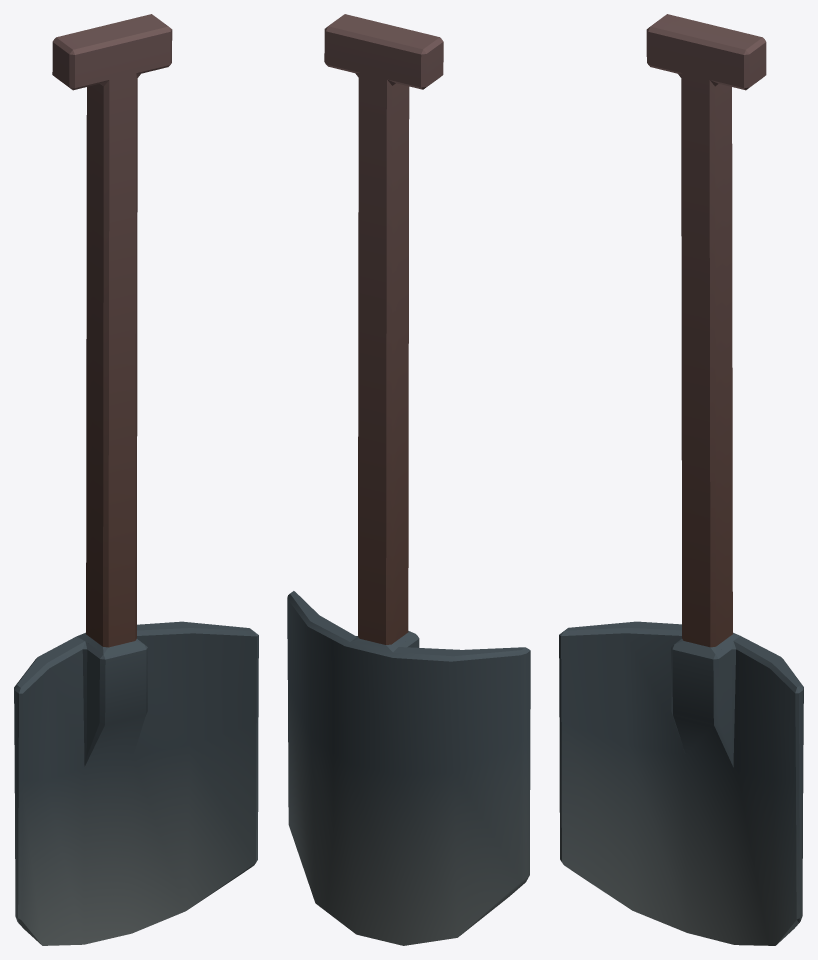
File: SibJam.fbx
The picture shows the model from 3 angles, left to right: view 1: azimuth 30°, elevation 25°; view 2: azimuth 150°, elevation 25°; view 3: azimuth 330°, elevation 25°; orthographic projection.
Parts seen in each view (by area): view 1: Cube.003; view 2: Cube.003; view 3: Cube.003.
Part boxes in pixels (box(x1,y1,x2,y2)): Cube.003: box(14, 14, 258, 945); Cube.003: box(287, 14, 530, 945); Cube.003: box(559, 14, 803, 945).
Size of the model in its own units: 100 by 363 by 31.27.
